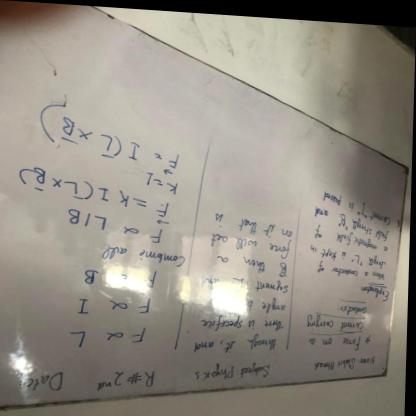Handwritten text: (306, 196, 395, 240), (207, 203, 300, 245), (94, 238, 192, 273), (310, 215, 399, 251), (197, 268, 295, 299), (207, 227, 297, 258), (305, 236, 395, 266), (187, 330, 284, 356), (191, 356, 279, 383), (312, 255, 393, 283), (215, 248, 296, 276), (199, 312, 290, 332), (307, 348, 382, 371), (303, 329, 371, 348), (356, 276, 398, 300)
Whiteboard: (0, 0, 410, 411)
